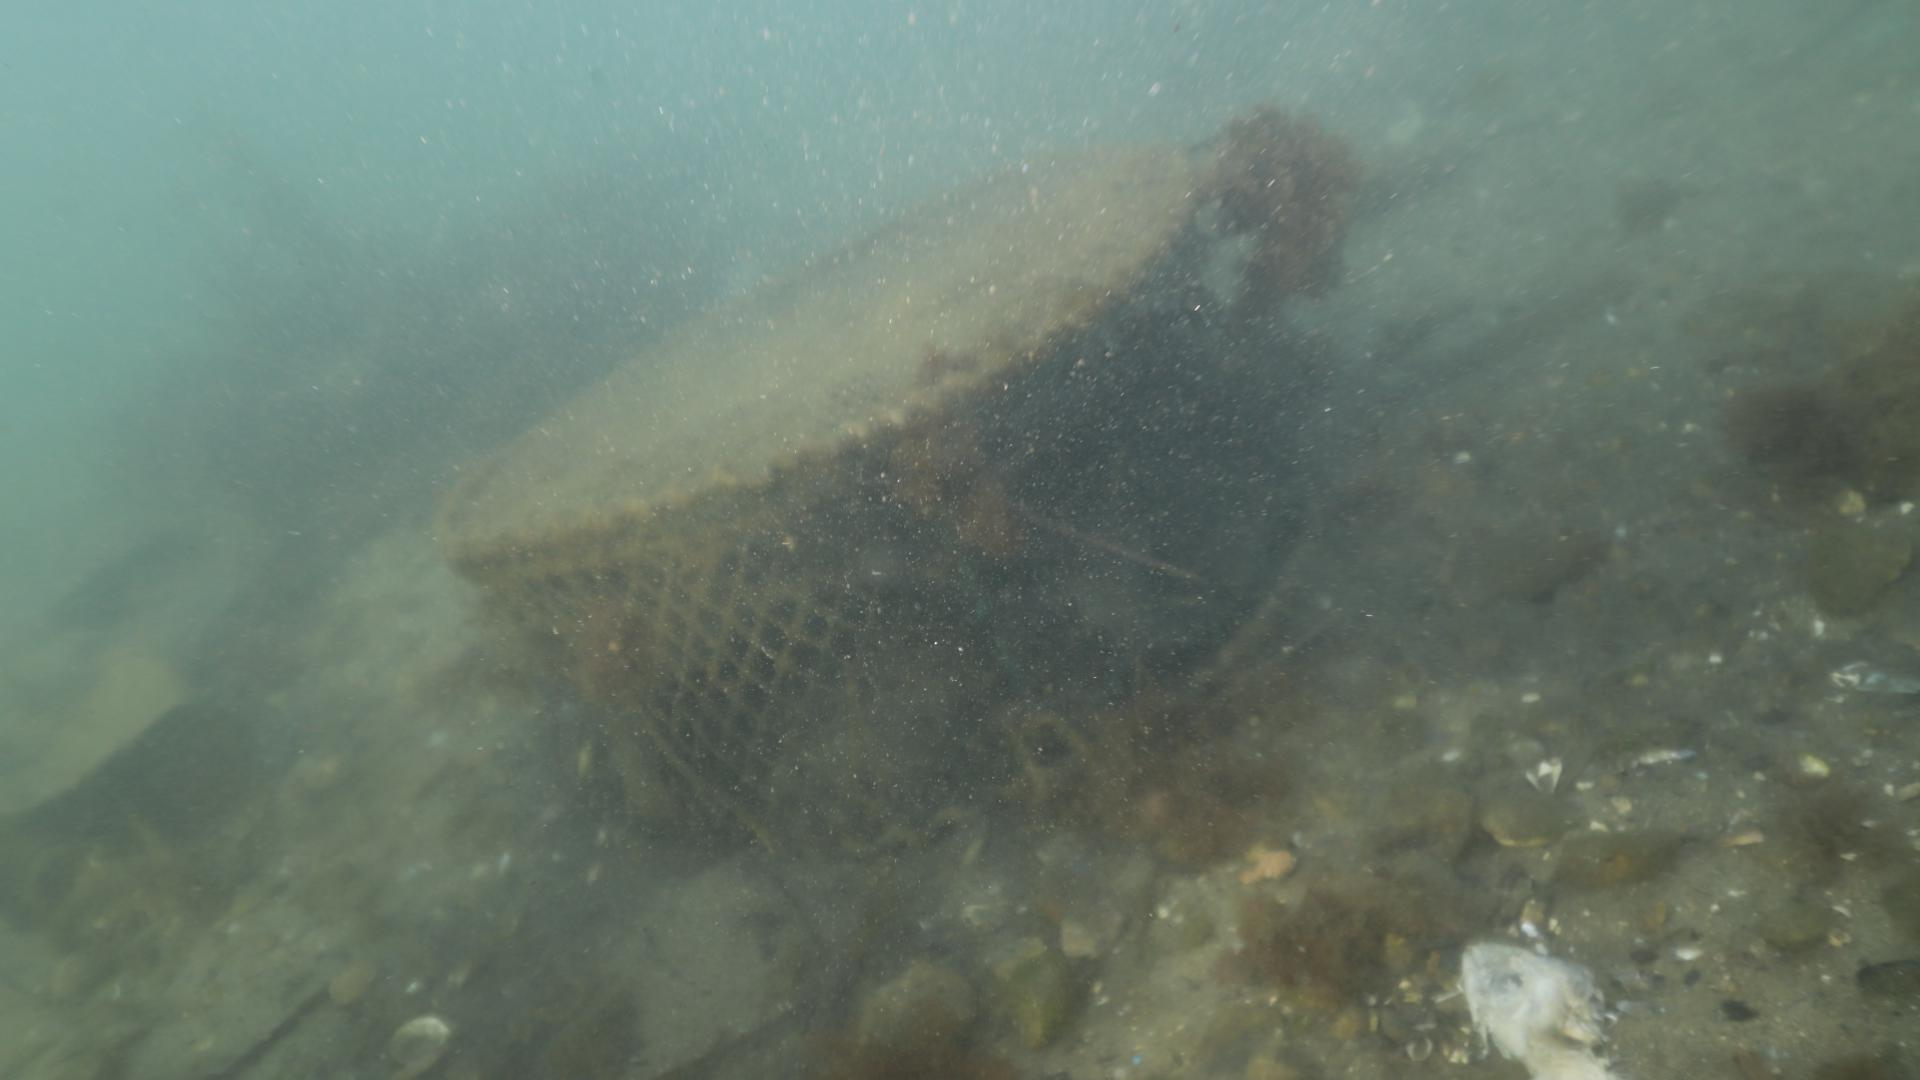circular fish trap: (443, 136, 1325, 866)
